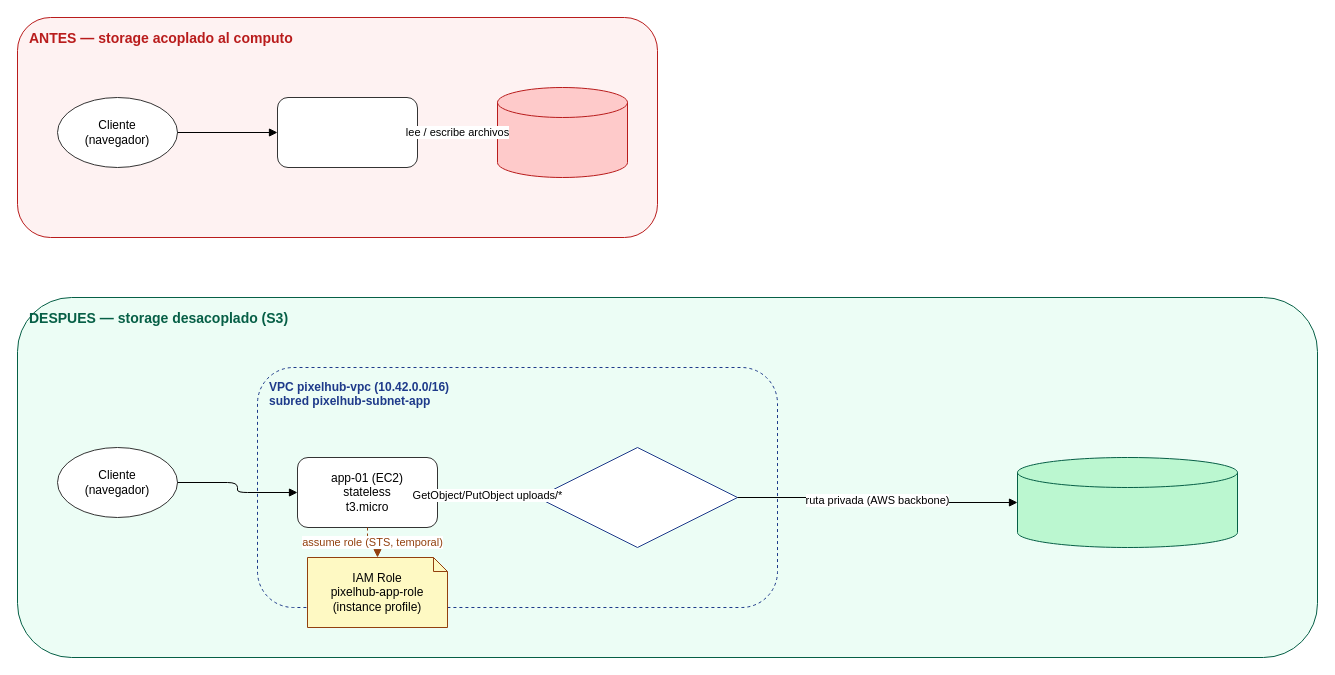
This 1335x675 diagram has some shape labels left out. Here are the shapes that lost their labels. From the top down, the centre of each, then its label:
At (x=347, y=132): "app-01 (EC2) monolito web + app".
At (x=562, y=132): "Disco local (EBS) imagenes subidas ⚠ SPOF".
At (x=637, y=497): "VPC Gateway Endpoint com.amazonaws.us-east-1.s3 (gratis, sin NAT)".
At (x=1127, y=502): "S3 · pixelhub-images versionado + lifecycle (uploads/* -> Glacier a 90d)".
